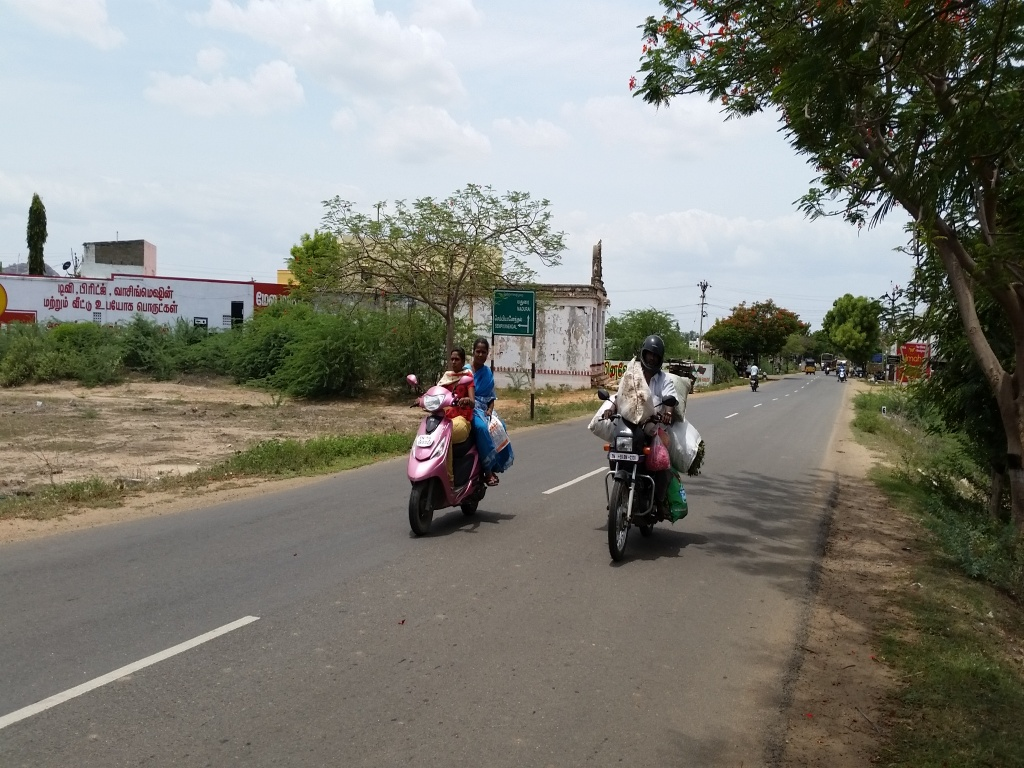biker: (581, 308, 717, 575), (387, 308, 525, 550)
helmet: (635, 324, 671, 380)
nohelmet: (469, 327, 497, 377), (441, 335, 469, 385)
